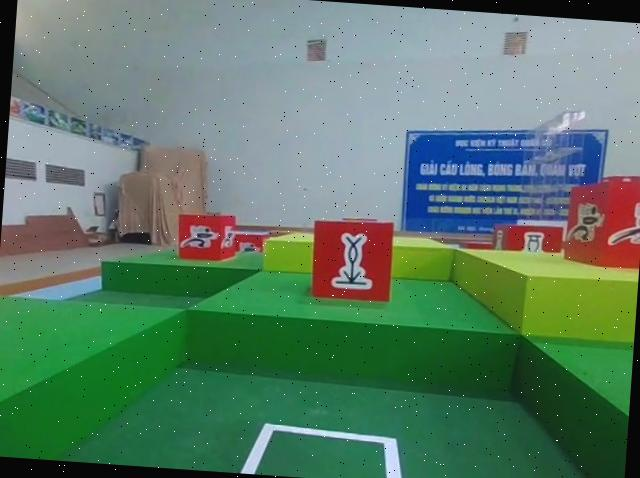R1: (561, 171, 640, 270), (172, 207, 239, 265)
R2 Real: (308, 216, 394, 303)
